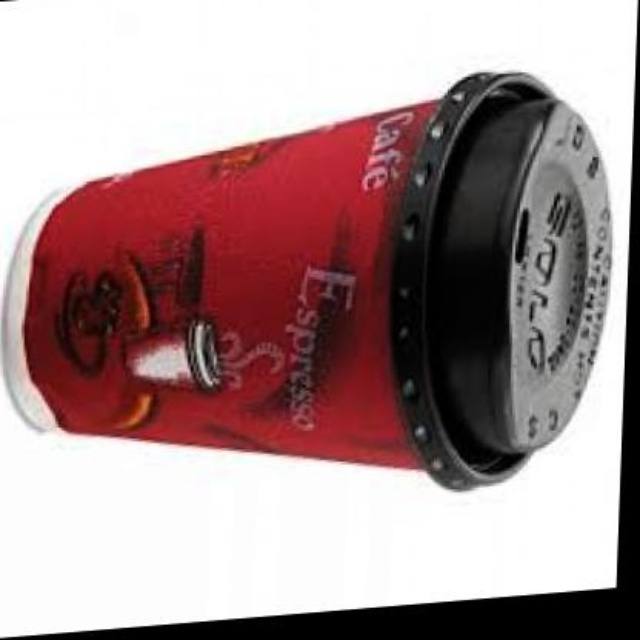trash: (3, 72, 609, 488)
